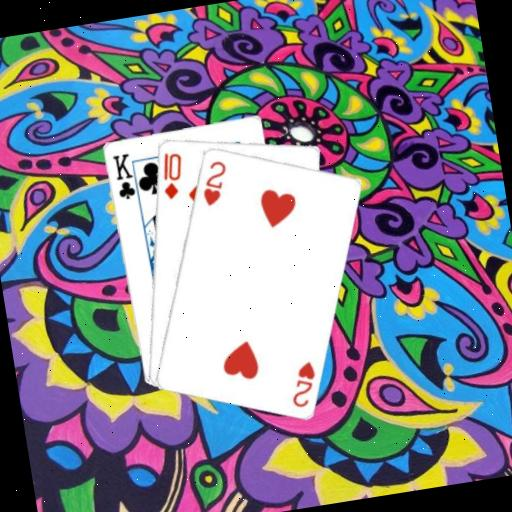10D: (154, 148, 188, 202)
2H: (194, 155, 233, 208), (282, 357, 321, 410)
KC: (109, 149, 142, 206)
